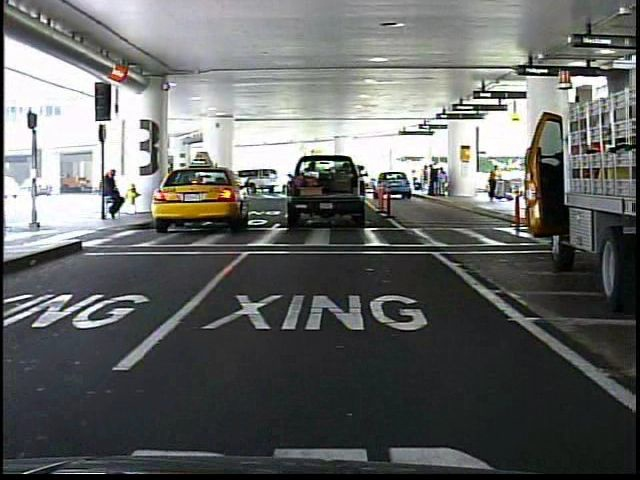person: (102, 163, 128, 223), (487, 159, 506, 206)
